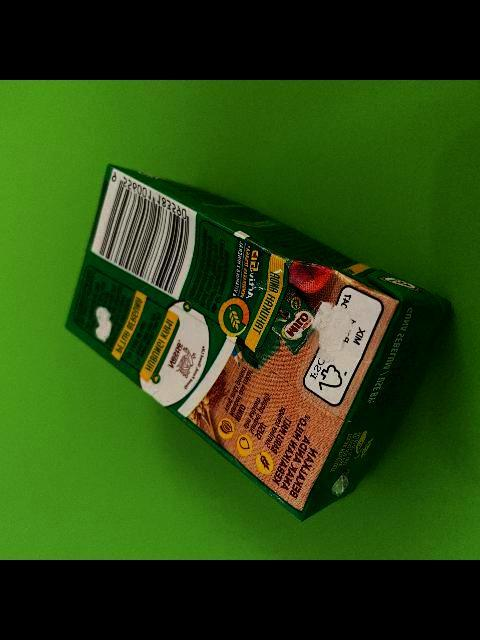drinkpack: (63, 162, 452, 522)
